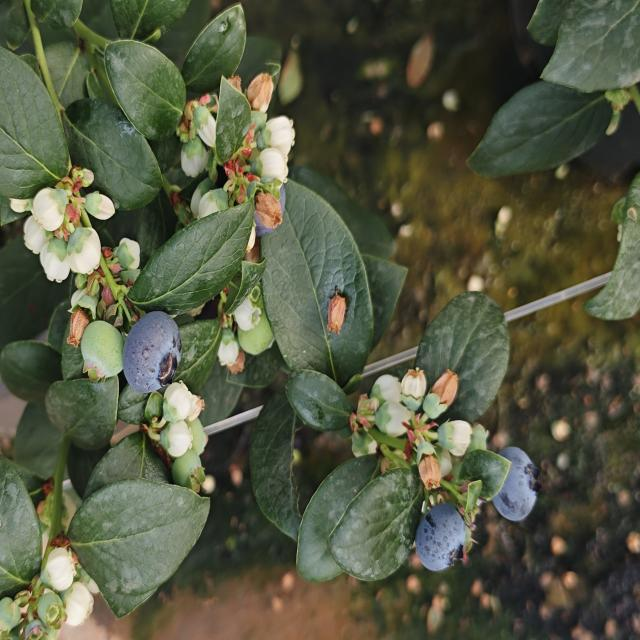ripe: (120, 309, 185, 397), (488, 444, 542, 526), (412, 501, 470, 575)
